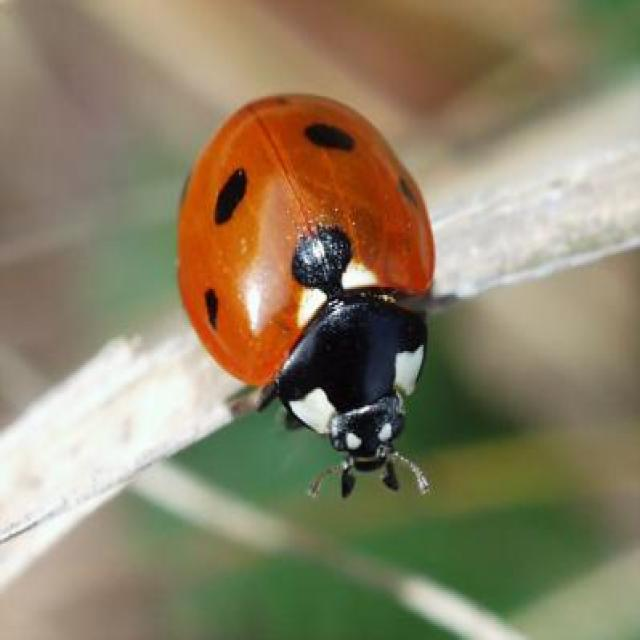antennae: (309, 451, 436, 504)
body: (178, 93, 438, 470)
insect: (177, 94, 440, 501)
wings: (178, 93, 436, 387)
